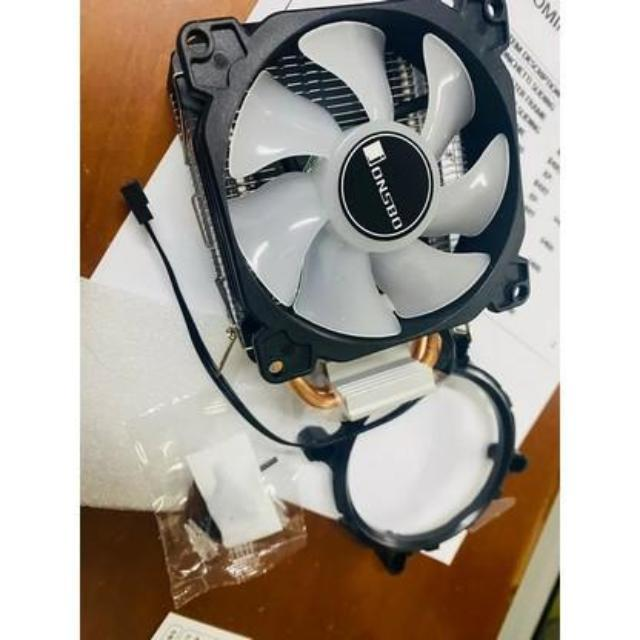CPU_Fan: (183, 0, 526, 406)
